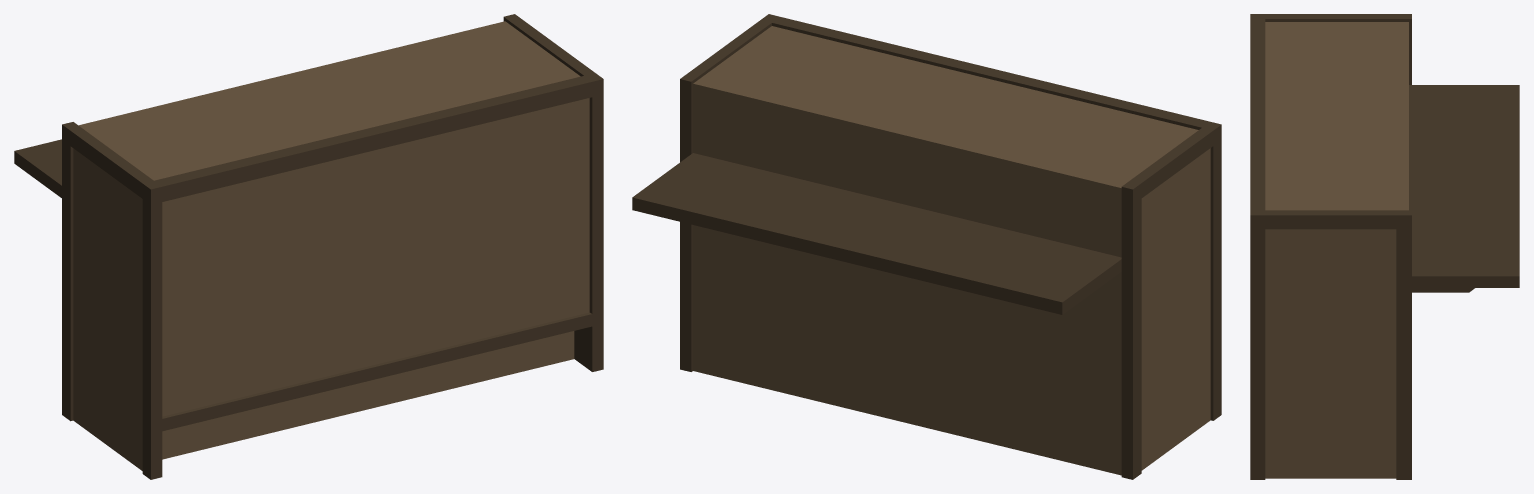
File: SM_Prop_Shop_Desk_03.obj
The picture shows the model from 3 angles, left to right: view 1: azimuth 30°, elevation 25°; view 2: azimuth 150°, elevation 25°; view 3: azimuth 270°, elevation 25°; orthographic projection. The views are drawn at different scales.
Parts seen in each view (by area): view 1: SM_Prop_Shop_Desk_03_0; view 2: SM_Prop_Shop_Desk_03_0; view 3: SM_Prop_Shop_Desk_03_0.
Part boxes in pixels (bbox=[...]): SM_Prop_Shop_Desk_03_0: bbox=[14, 14, 603, 479]; SM_Prop_Shop_Desk_03_0: bbox=[632, 14, 1221, 479]; SM_Prop_Shop_Desk_03_0: bbox=[1250, 14, 1519, 479].
Bounding box in the file's own units: 1.8 × 1.1 × 1.02.
Materials: 1 (1 with a texture image).
